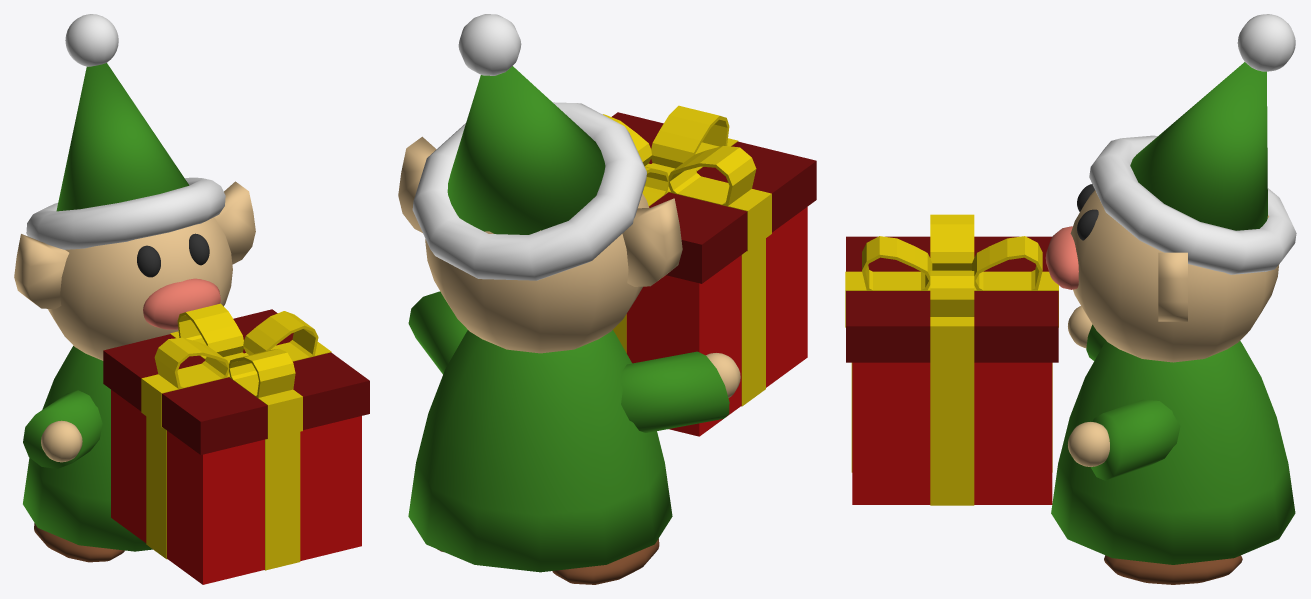
The model's file is duende con regalo.fbx.
3 views of the same model, side by side, from view 1: azimuth 30°, elevation 25°; view 2: azimuth 150°, elevation 25°; view 3: azimuth 270°, elevation 25° (orthographic). The views are drawn at different scales.
Visible parts, largest first — view 1: regalo, elfo, color; view 2: color, elfo, regalo; view 3: color, regalo, elfo.
Boxes of the visible parts, <box> form: regalo: <box>103,303,369,584</box>; elfo: <box>14,14,255,562</box>; color: <box>23,63,189,551</box>; color: <box>408,66,729,572</box>; elfo: <box>398,14,740,584</box>; regalo: <box>603,105,816,436</box>; color: <box>1051,62,1295,564</box>; regalo: <box>845,214,1058,505</box>; elfo: <box>1045,14,1296,584</box>.
Bounding box in the file's own units: 51.47 × 87.96 × 67.71.
